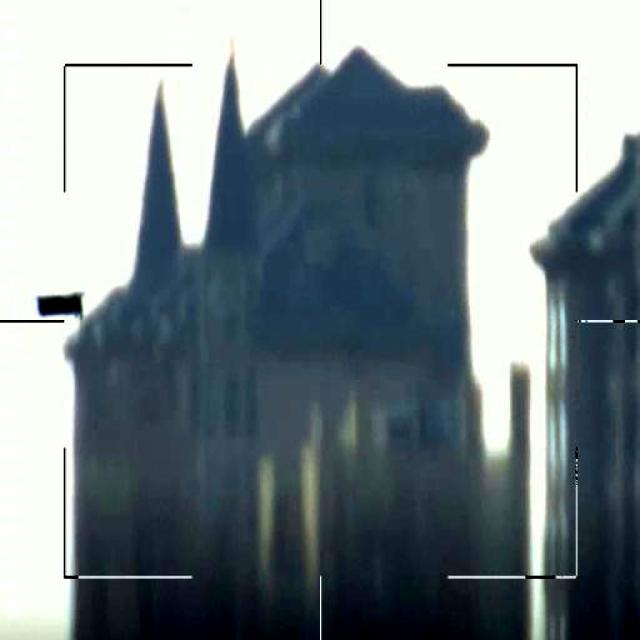bird: (29, 290, 79, 318)
